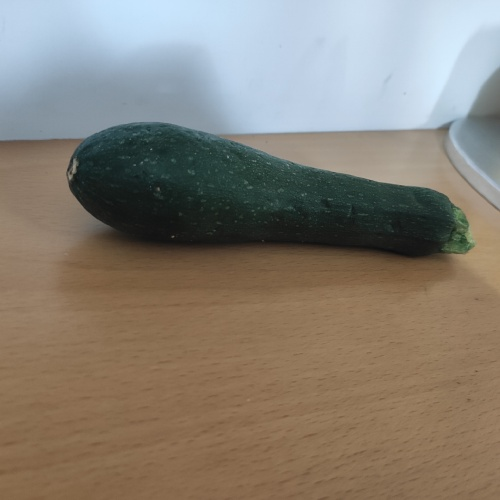zucchine: (70, 118, 479, 276)
